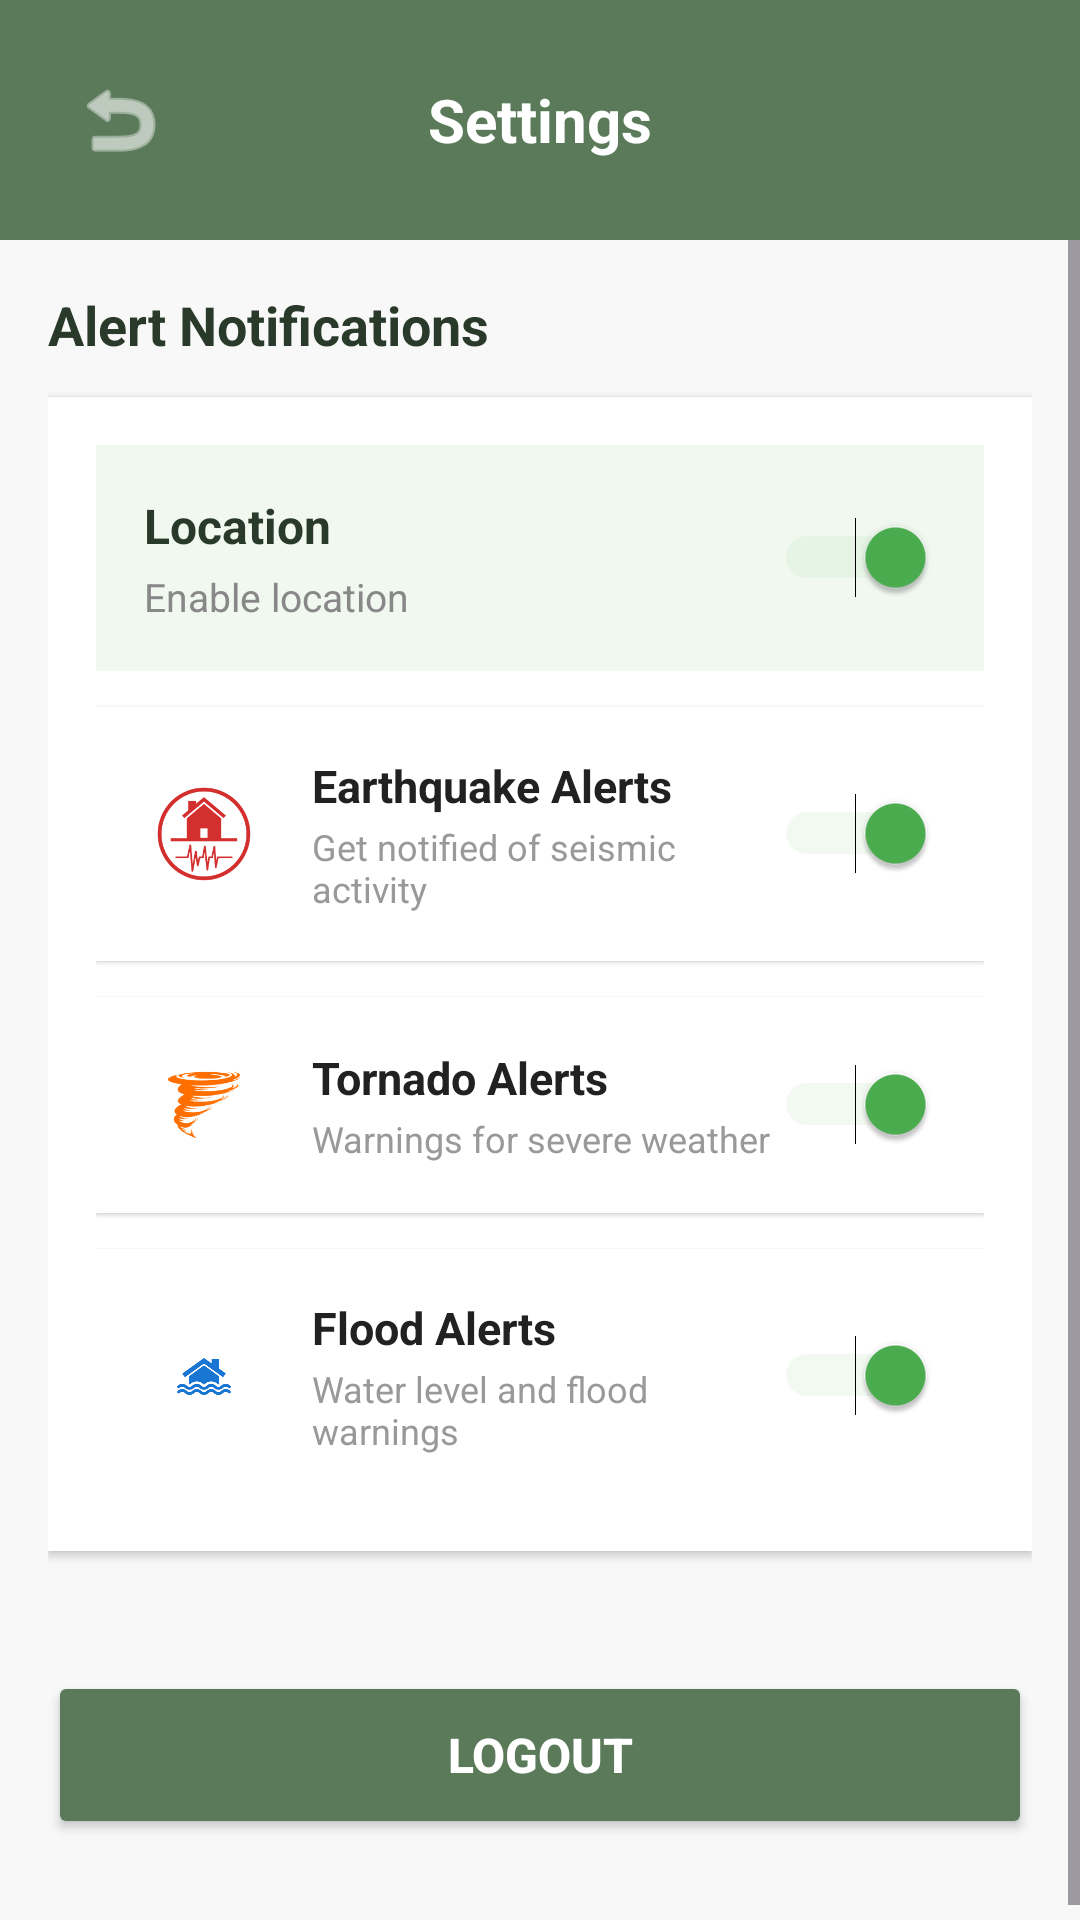

Where to tap for icons on this 1080×1920 app screen, as (x,y):
revert: (121,120)
tor: (204,1105)
